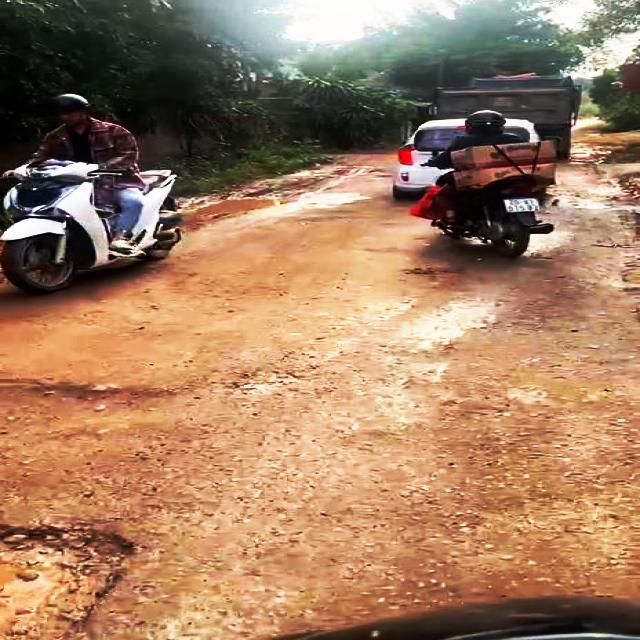pothole: (0, 377, 276, 449), (0, 520, 154, 640)
